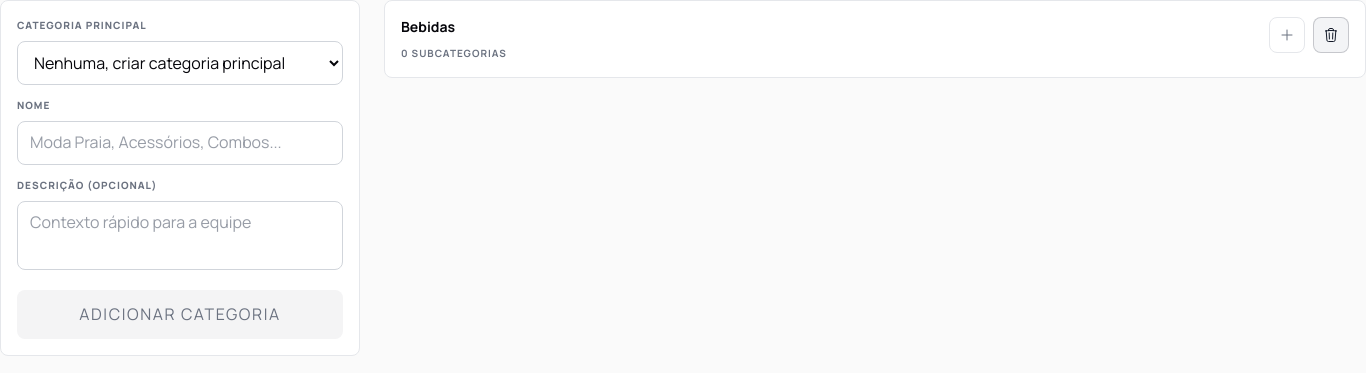
CategoriesTab › disables the submit button while the category name is shorter than 2 characters
The width and height of the screenshot is (1366, 373).
Expected: the submit button is disabled, x1=17 y1=290 x2=343 y2=339
In the field labelled "Nome": (180, 143) x1=17 y1=121 x2=343 y2=165, type "Ok"
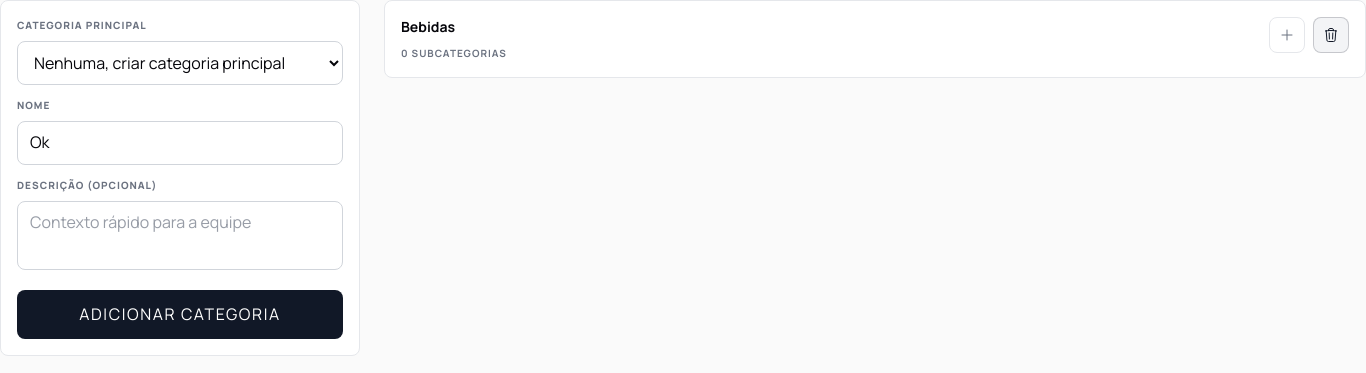
Expected: the submit button is enabled, x1=17 y1=290 x2=343 y2=339
